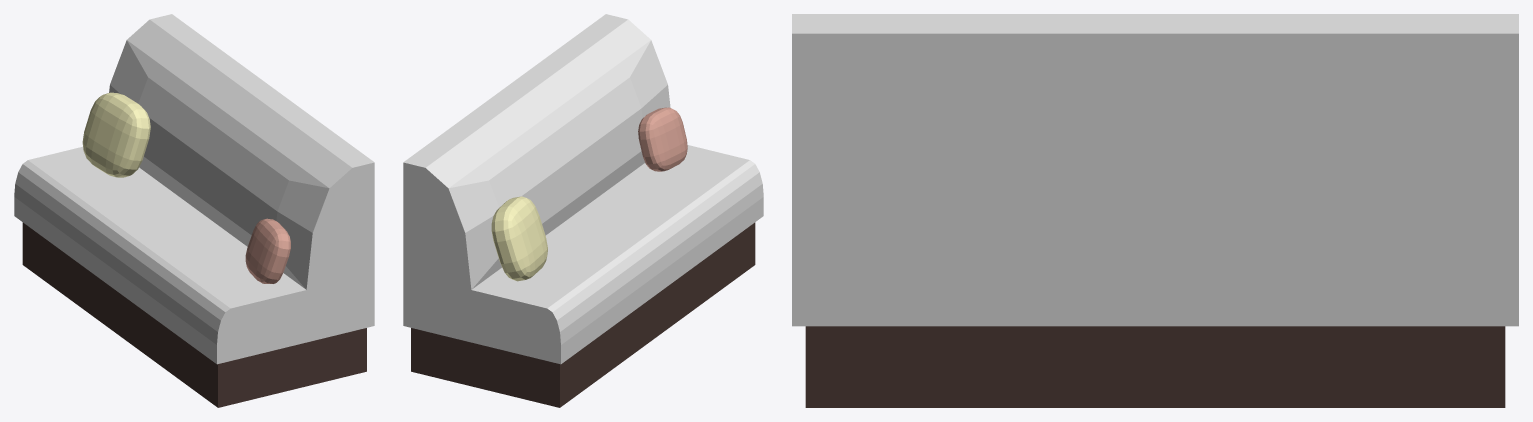
Rendered from BoothTwoPillow.fbx.
3 renders of one model, left to right at view 1: azimuth 30°, elevation 25°; view 2: azimuth 150°, elevation 25°; view 3: azimuth 270°, elevation 25°, orthographic. The views are drawn at different scales.
Visible parts, largest first — view 1: Cube, Cube.004, Cube.001, Cube.002; view 2: Cube, Cube.004, Cube.001, Cube.002; view 3: Cube, Cube.004.
Boxes of the visible parts, <box> form: Cube: <box>14,14,374,364</box>; Cube.004: <box>22,222,366,407</box>; Cube.001: <box>82,92,150,177</box>; Cube.002: <box>245,218,290,283</box>; Cube: <box>403,14,763,364</box>; Cube.004: <box>411,222,755,407</box>; Cube.001: <box>491,196,547,281</box>; Cube.002: <box>638,107,687,171</box>; Cube: <box>792,14,1518,326</box>; Cube.004: <box>805,326,1505,407</box>.
Size of the model in its own units: 532 by 680 by 1184.
